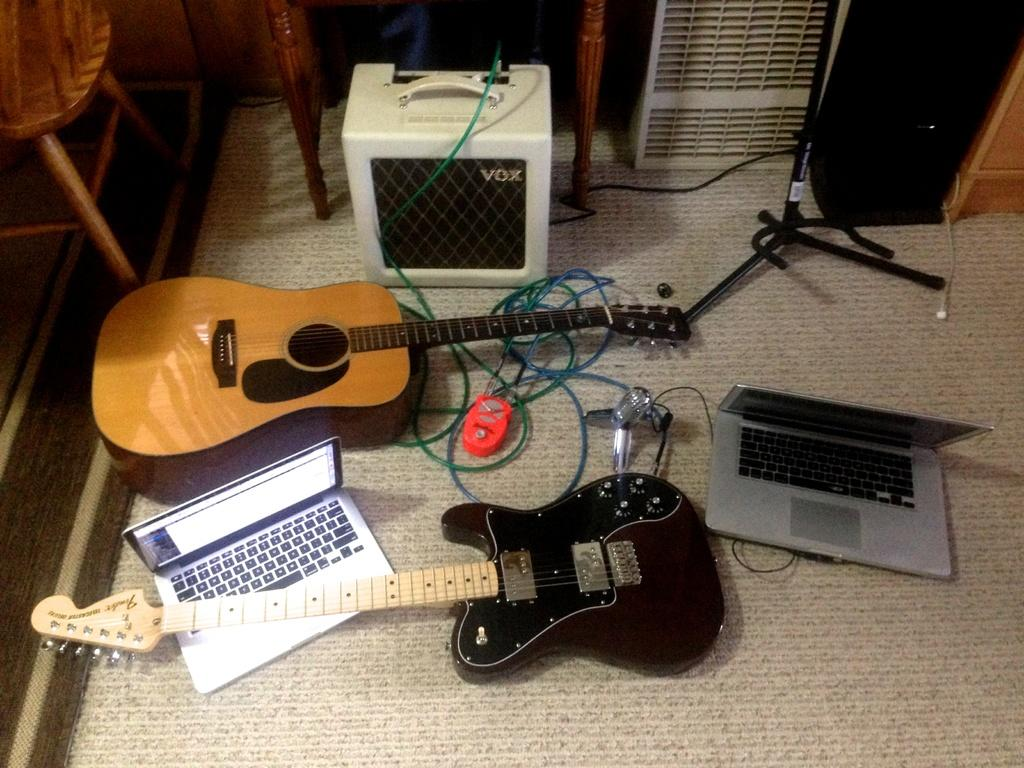Laptop: (125, 436, 401, 696), (701, 383, 993, 579)
